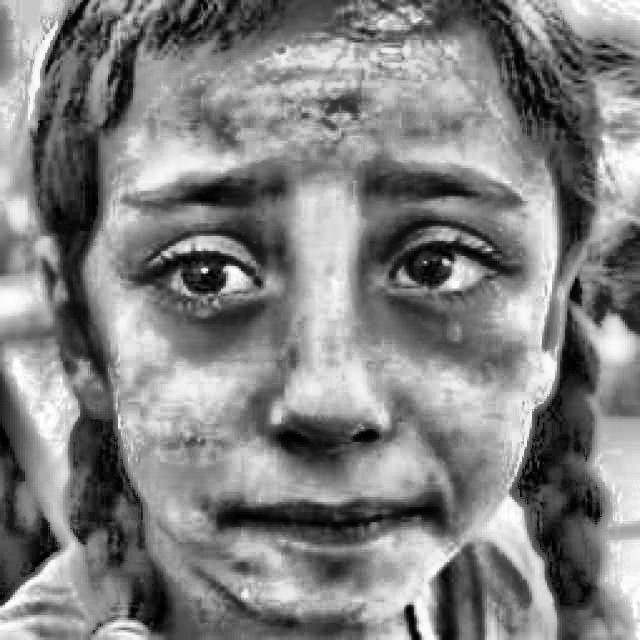sad: (136, 0, 558, 615)
